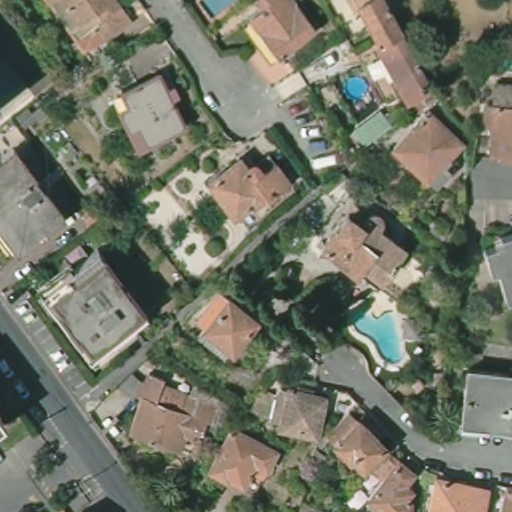pool: (352, 303, 410, 369), (198, 1, 247, 19), (344, 72, 373, 100)
